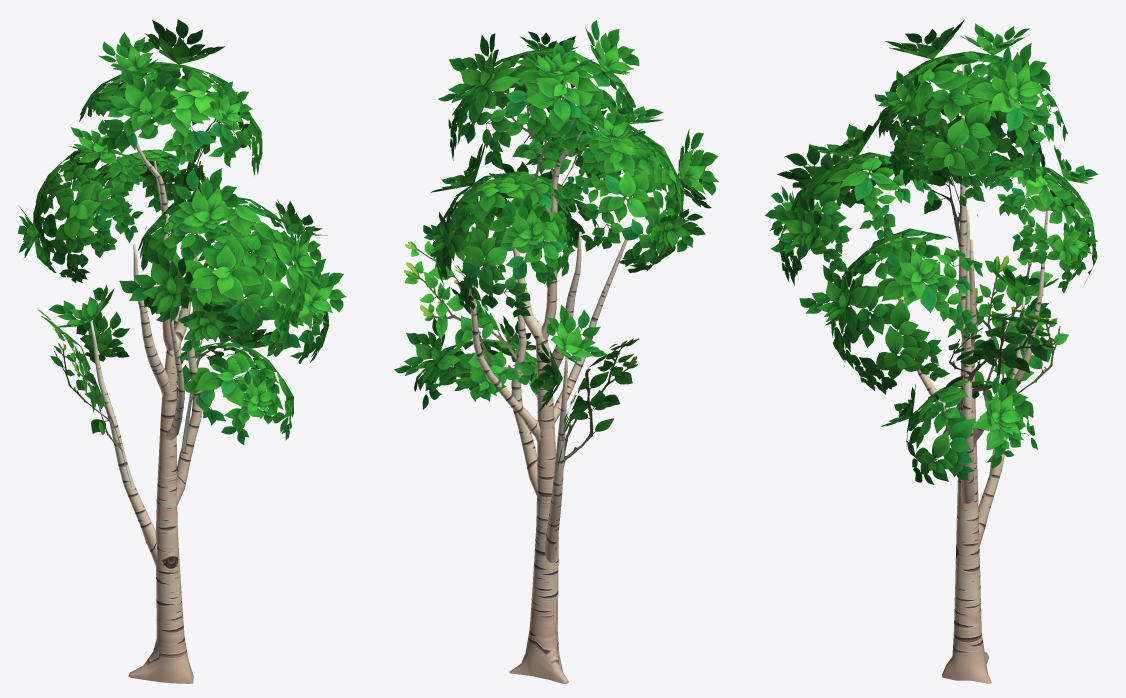
Rendered from SE_Birch_02.fbx.
3 renders of one model, left to right at view 1: azimuth 30°, elevation 25°; view 2: azimuth 150°, elevation 25°; view 3: azimuth 270°, elevation 25°, orthographic.
Parts seen in each view (by area): view 1: SE_Birch_02; view 2: SE_Birch_02; view 3: SE_Birch_02.
Part boxes in pixels (x1,y1,x2,y2): SE_Birch_02: (17, 19, 346, 683); SE_Birch_02: (394, 20, 718, 683); SE_Birch_02: (764, 19, 1098, 683).
Bounding box in the file's own units: 9.21 × 19.13 × 9.4.
